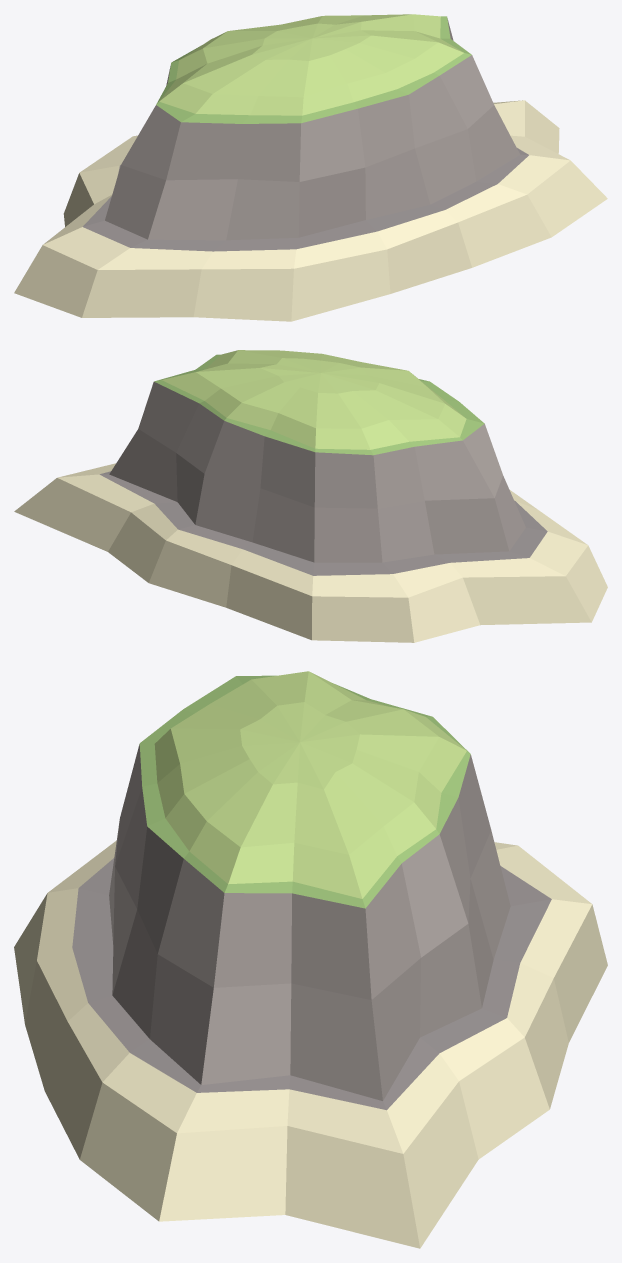
The model's file is Decor_IslandTall.fbx.
3 views of the same model, one above another, from view 1: azimuth 30°, elevation 25°; view 2: azimuth 150°, elevation 25°; view 3: azimuth 270°, elevation 25° (orthographic). The views are drawn at different scales.
Visible parts, largest first — view 1: Decor_IslandTall; view 2: Decor_IslandTall; view 3: Decor_IslandTall.
Boxes of the visible parts, box(x1,y1,x2,y2) form: Decor_IslandTall: box(14, 14, 607, 321); Decor_IslandTall: box(14, 350, 607, 642); Decor_IslandTall: box(14, 671, 607, 1248).
Size of the model in its own units: 46.43 by 14.42 by 26.7.
